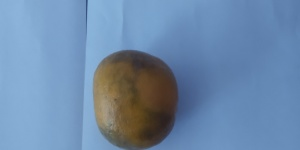BAD: (91, 49, 179, 150)
